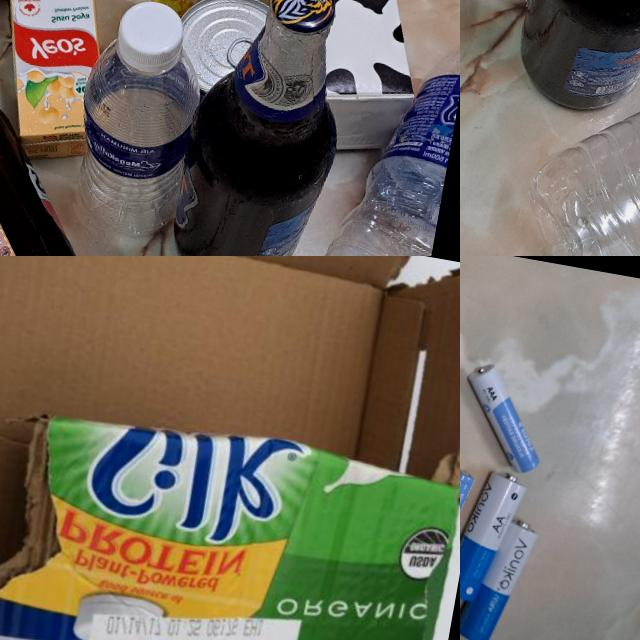aba de lata: (224, 36, 254, 72)
bateria: (460, 359, 555, 475), (460, 511, 538, 640), (460, 464, 528, 608), (460, 461, 476, 587)
caixinha: (203, 0, 454, 162), (0, 0, 120, 167)
garrafa de vidro: (160, 0, 363, 256), (0, 55, 127, 256), (506, 0, 640, 123)
garrafa plástica: (259, 1, 460, 256), (508, 0, 640, 256), (59, 32, 210, 245)
lata: (166, 0, 274, 106), (0, 0, 129, 36)
papelão: (0, 256, 460, 640)
tampa plástica: (111, 0, 186, 74)
